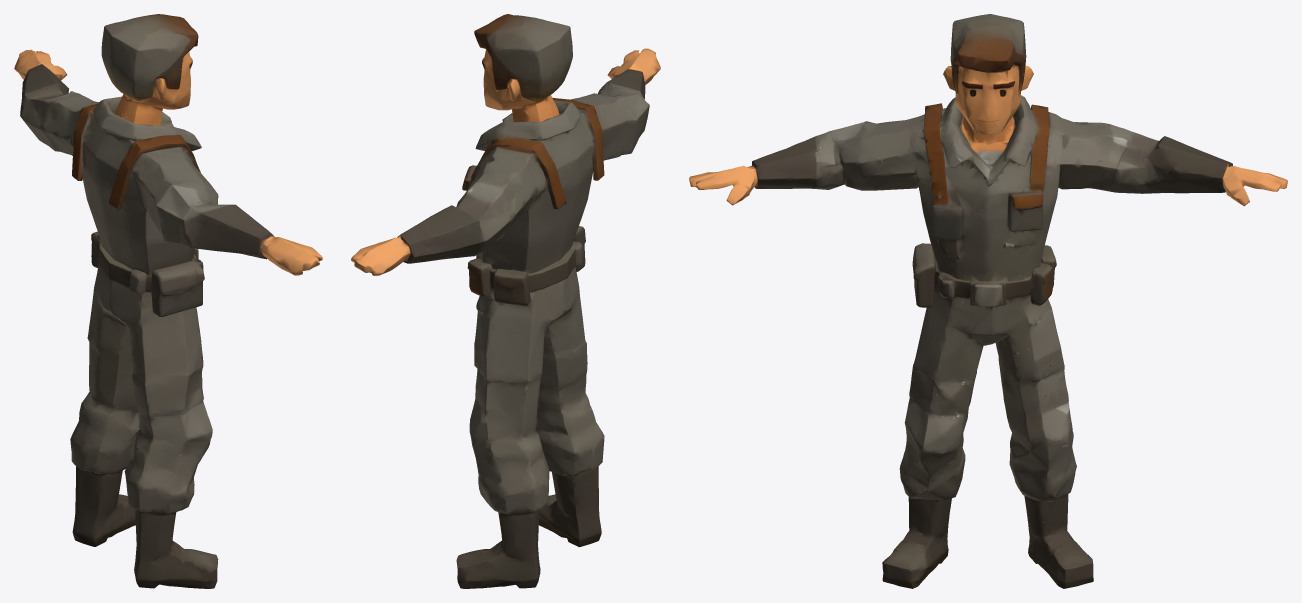
Rendered from character.glb.
3 renders of one model, left to right at view 1: azimuth 30°, elevation 25°; view 2: azimuth 150°, elevation 25°; view 3: azimuth 270°, elevation 25°, orthographic. The views are drawn at different scales.
Parts seen in each view (by area): view 1: tripo_node_855c3901-dcc8-407f-b5df-4a01054d935d; view 2: tripo_node_855c3901-dcc8-407f-b5df-4a01054d935d; view 3: tripo_node_855c3901-dcc8-407f-b5df-4a01054d935d.
Boxes of the visible parts, bbox=[...] form: tripo_node_855c3901-dcc8-407f-b5df-4a01054d935d: bbox=[14, 14, 322, 588]; tripo_node_855c3901-dcc8-407f-b5df-4a01054d935d: bbox=[351, 14, 660, 588]; tripo_node_855c3901-dcc8-407f-b5df-4a01054d935d: bbox=[689, 14, 1287, 588].
Bounding box in the file's own units: 0.2016 × 1 × 0.9874.
1 material, 1 textured.
